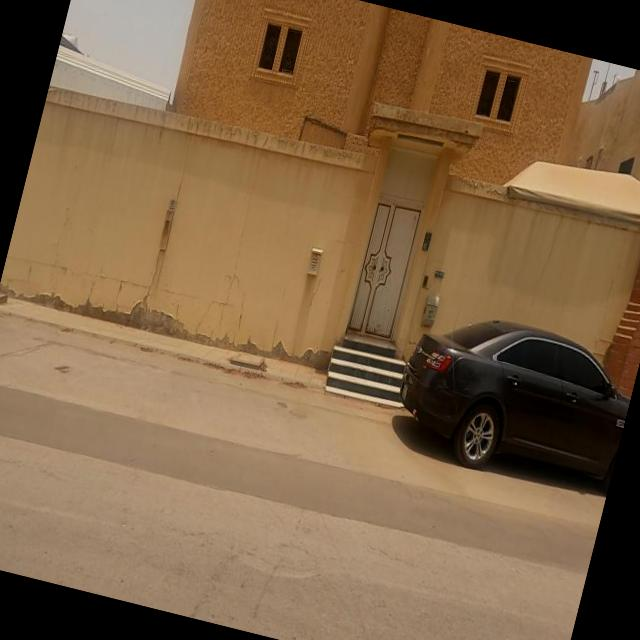debris: (154, 249, 402, 435), (48, 244, 236, 380)
